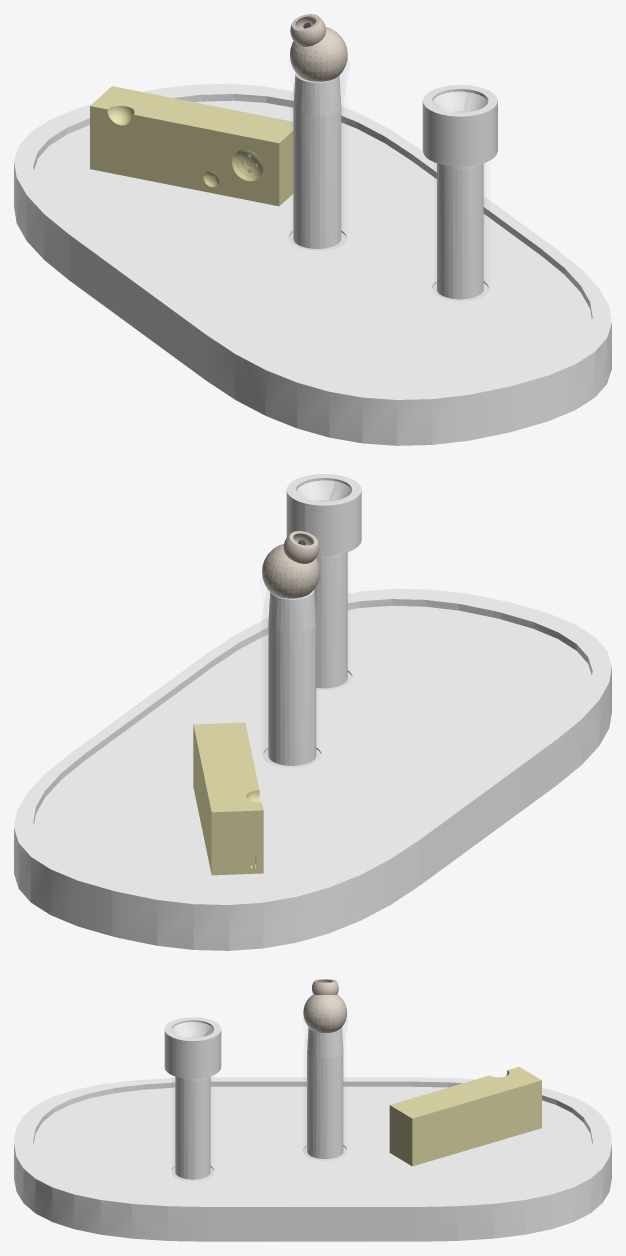
Rendered from plateComplete.glb.
3 views of the same model, one above another, from view 1: azimuth 30°, elevation 25°; view 2: azimuth 150°, elevation 25°; view 3: azimuth 270°, elevation 25° (orthographic). The views are drawn at different scales.
Visible parts, largest first — view 1: Plate, Speaker, Lamp, Lighter; view 2: Plate, Lighter, Lamp, Speaker; view 3: Plate, Speaker, Lamp, Lighter.
Boxes of the visible parts, x1,y1,x2,y2 form: Plate: (14, 83, 611, 445); Speaker: (90, 86, 293, 206); Lamp: (422, 85, 497, 301); Lighter: (288, 14, 347, 251); Plate: (14, 588, 611, 950); Lighter: (262, 531, 321, 767); Lamp: (286, 474, 361, 690); Speaker: (193, 722, 263, 875); Plate: (14, 1077, 611, 1241); Speaker: (389, 1066, 541, 1166); Lamp: (164, 1017, 221, 1181); Lighter: (303, 979, 347, 1160).
Size of the model in its own units: 49.48 by 35.66 by 96.49.
